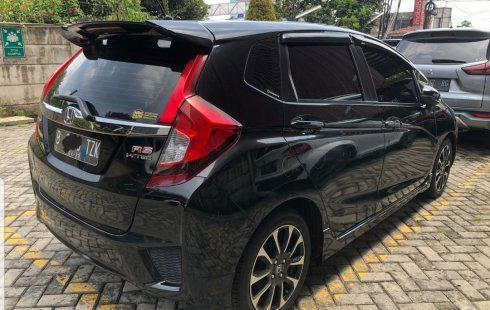Hatchback: (26, 10, 468, 310)
